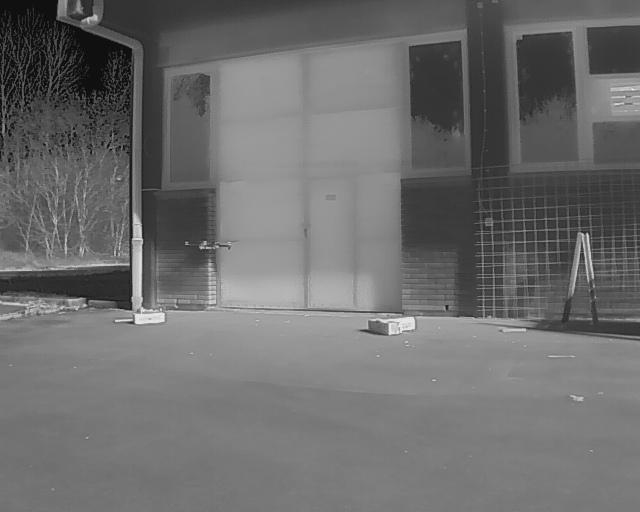drone: (177, 232, 244, 258)
